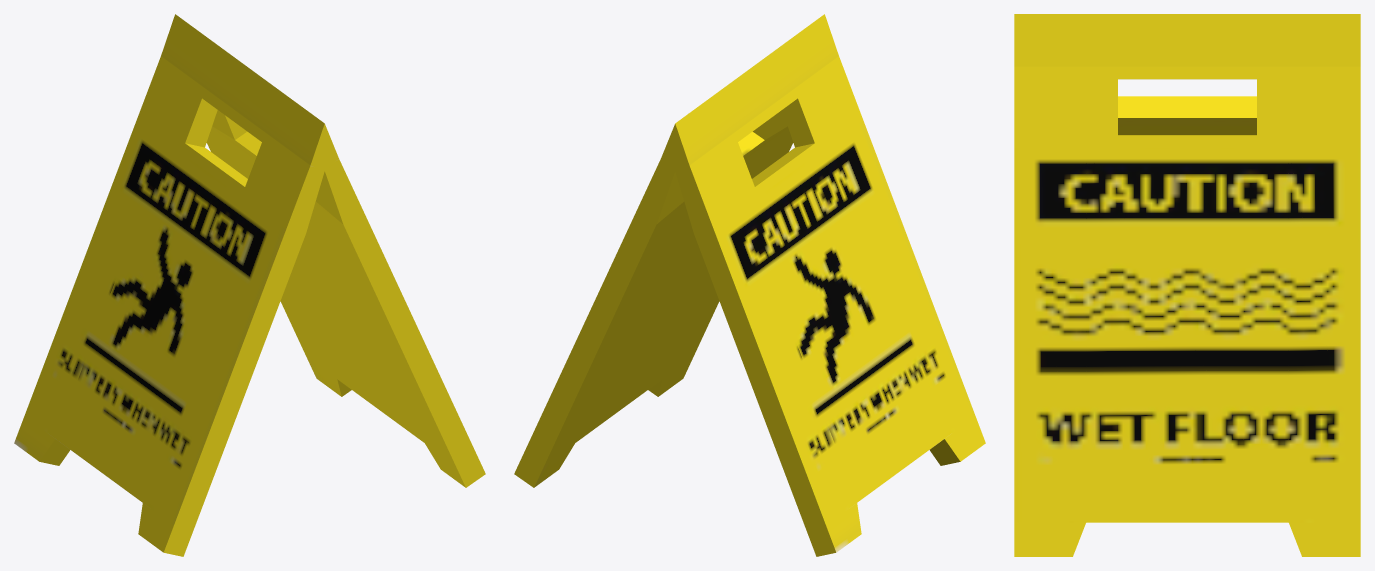
Rendered from wetfloor.fbx.
3 views of the same model, side by side, from view 1: azimuth 30°, elevation 25°; view 2: azimuth 150°, elevation 25°; view 3: azimuth 270°, elevation 25° (orthographic). The views are drawn at different scales.
Visible parts, largest first — view 1: Cube; view 2: Cube; view 3: Cube.
Boxes of the visible parts, x1,y1,x2,y2 form: Cube: (14,14,485,556); Cube: (514,14,985,556); Cube: (1014,14,1360,556).
Size of the model in its own units: 249 by 294 by 200.
1 material, 1 textured.
